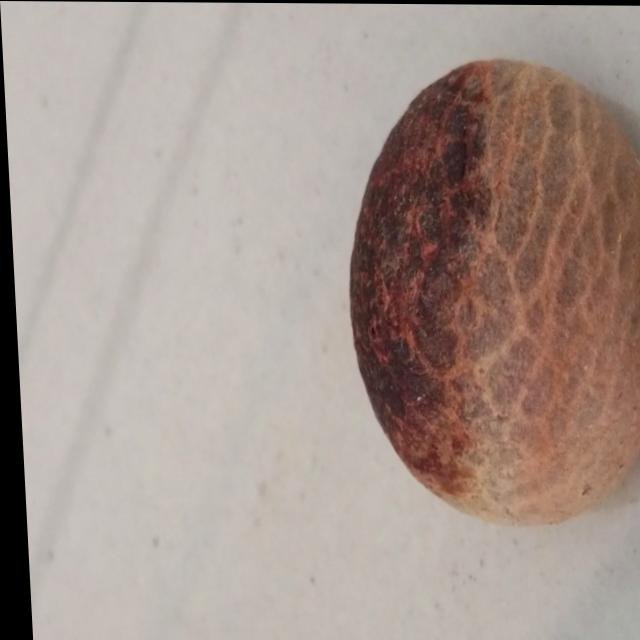karigot: (324, 40, 640, 541)
